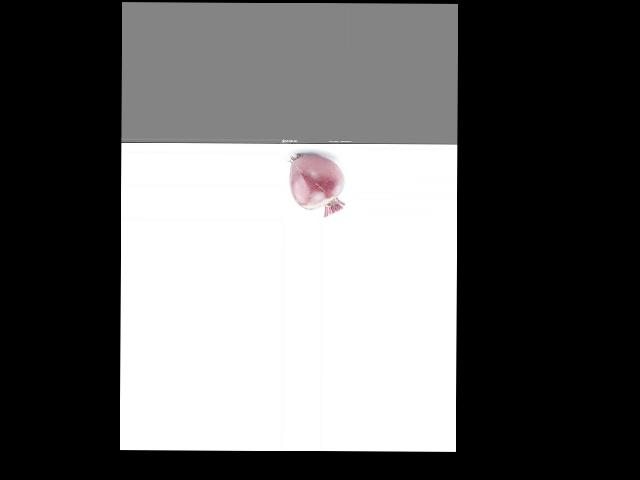beet: (289, 154, 345, 216)
